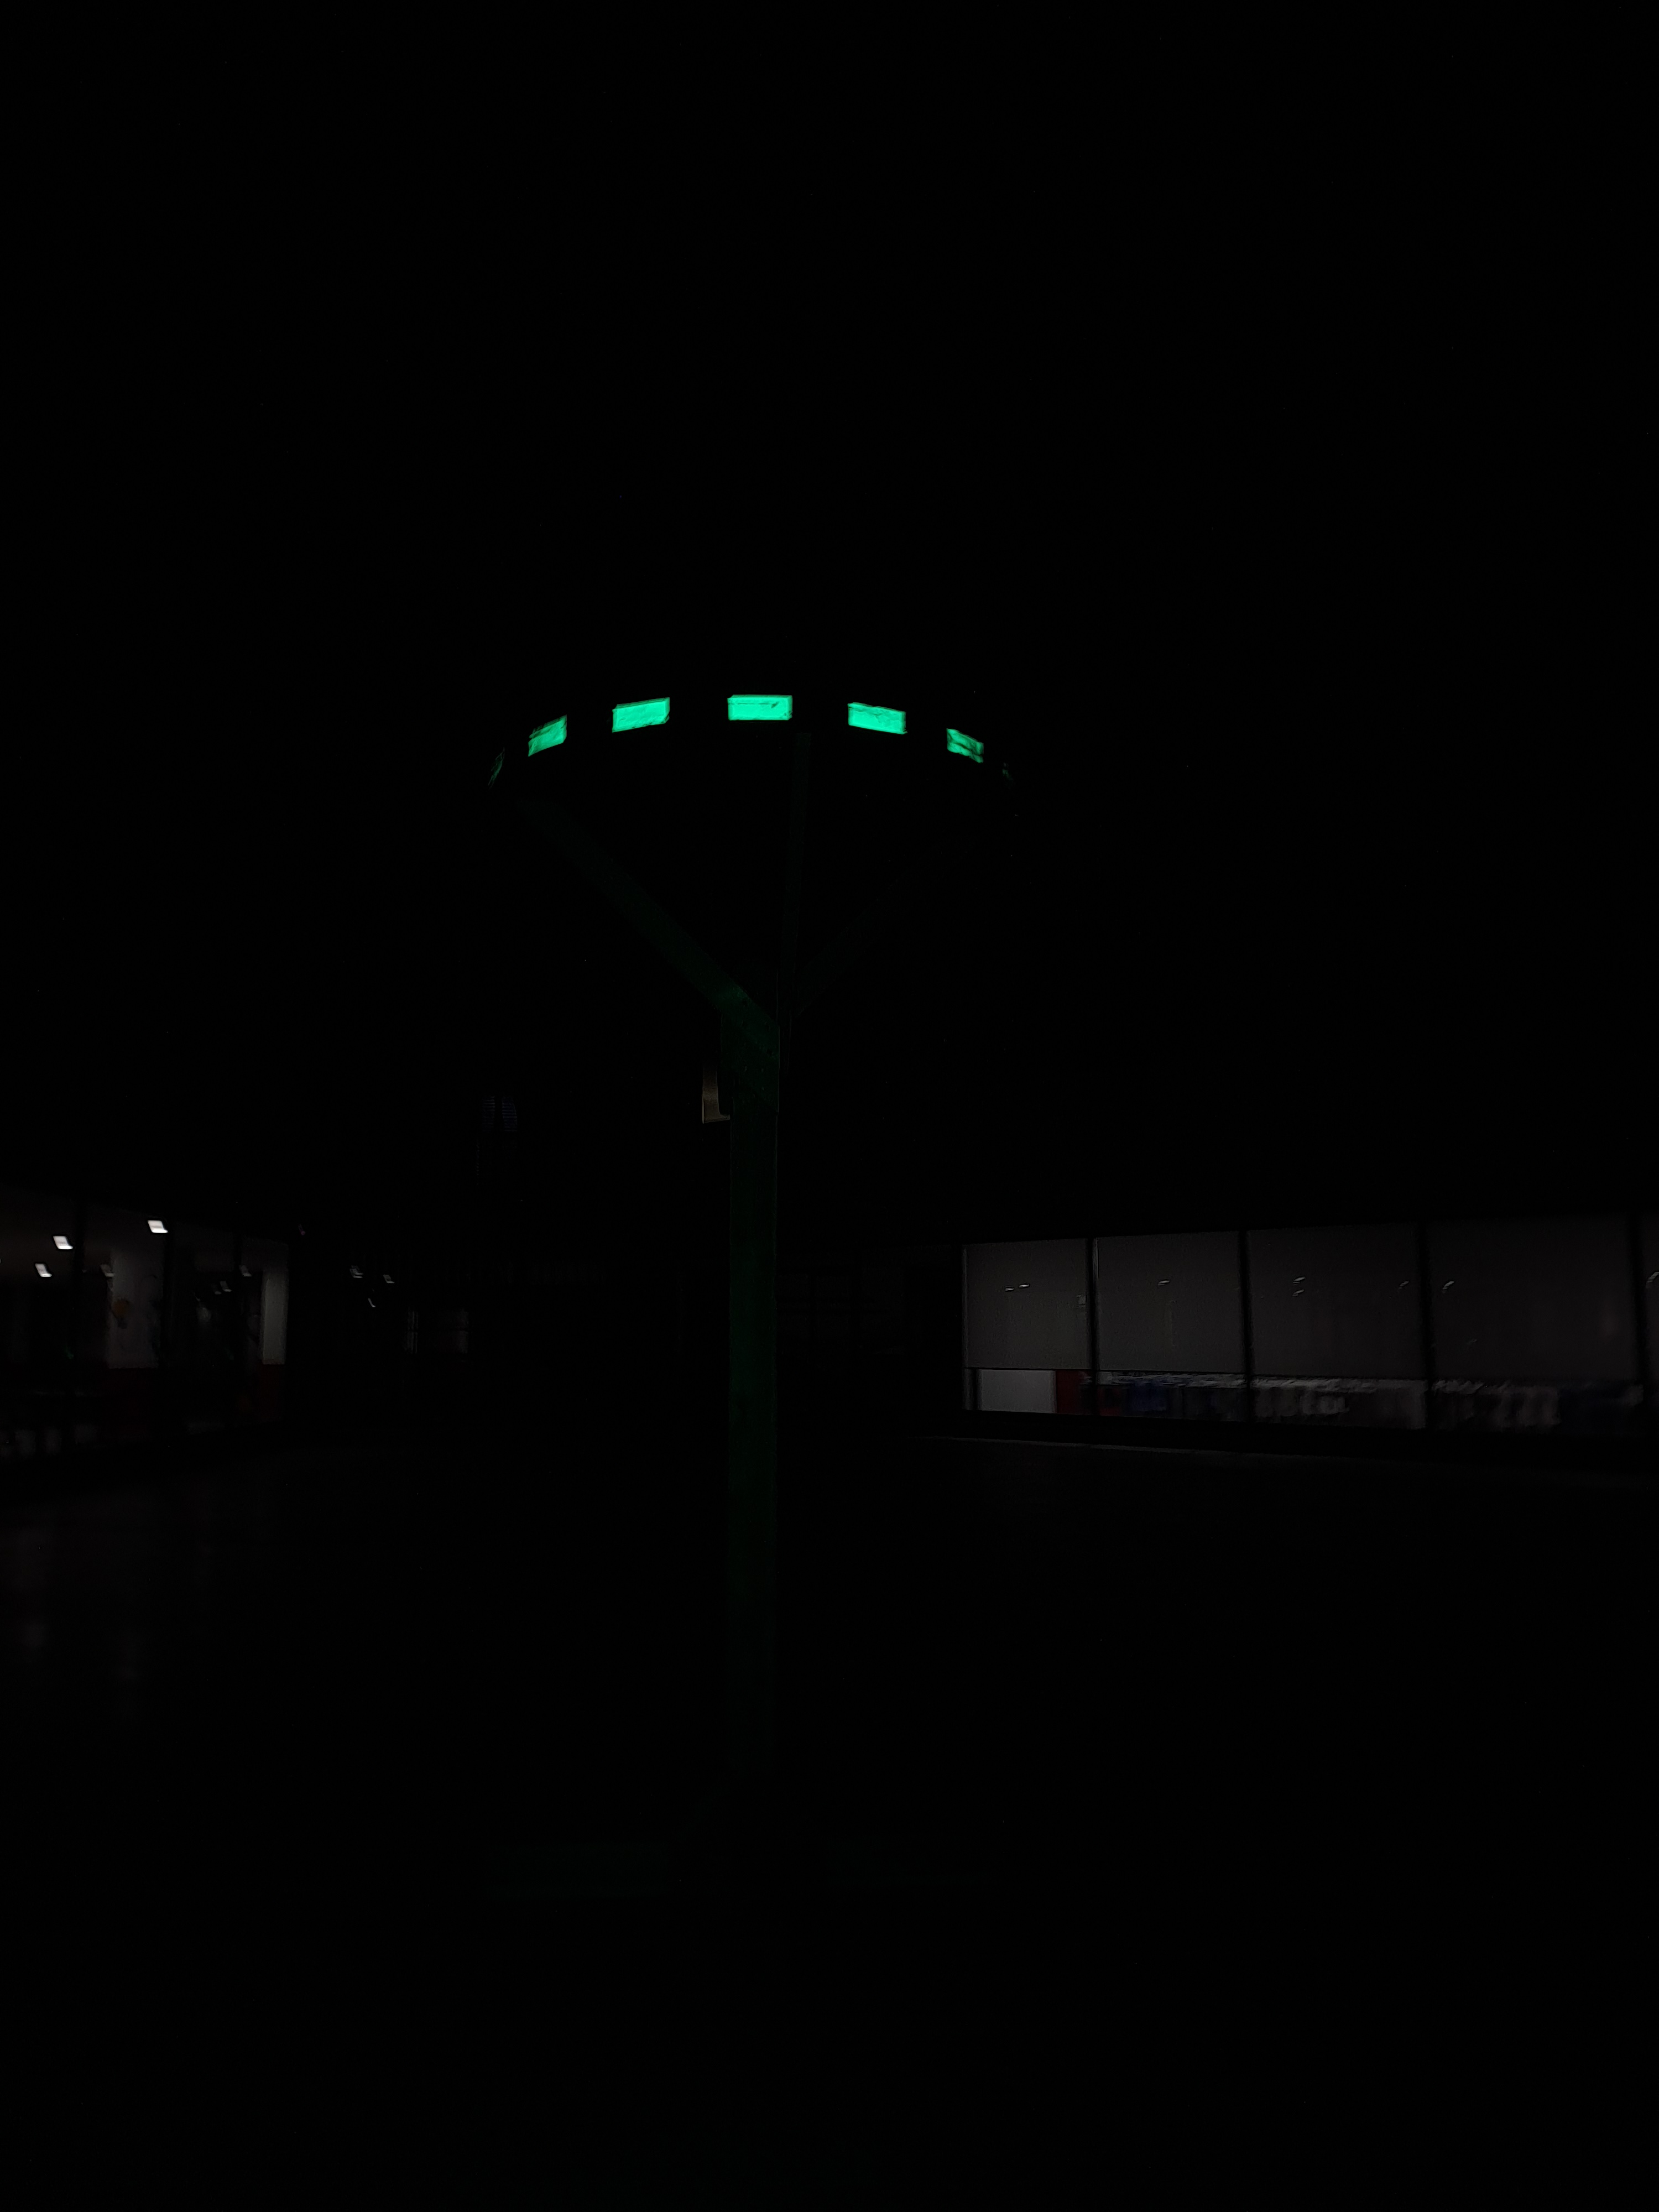hoop: (521, 685, 985, 777)
